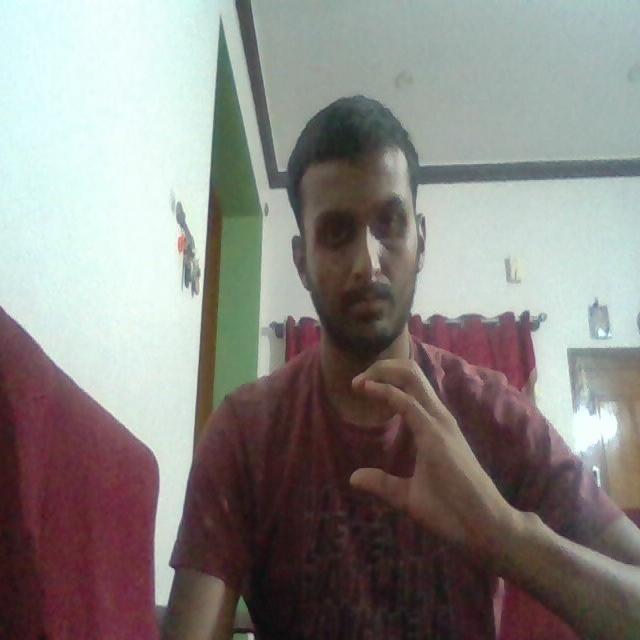no: (319, 348, 519, 556)
